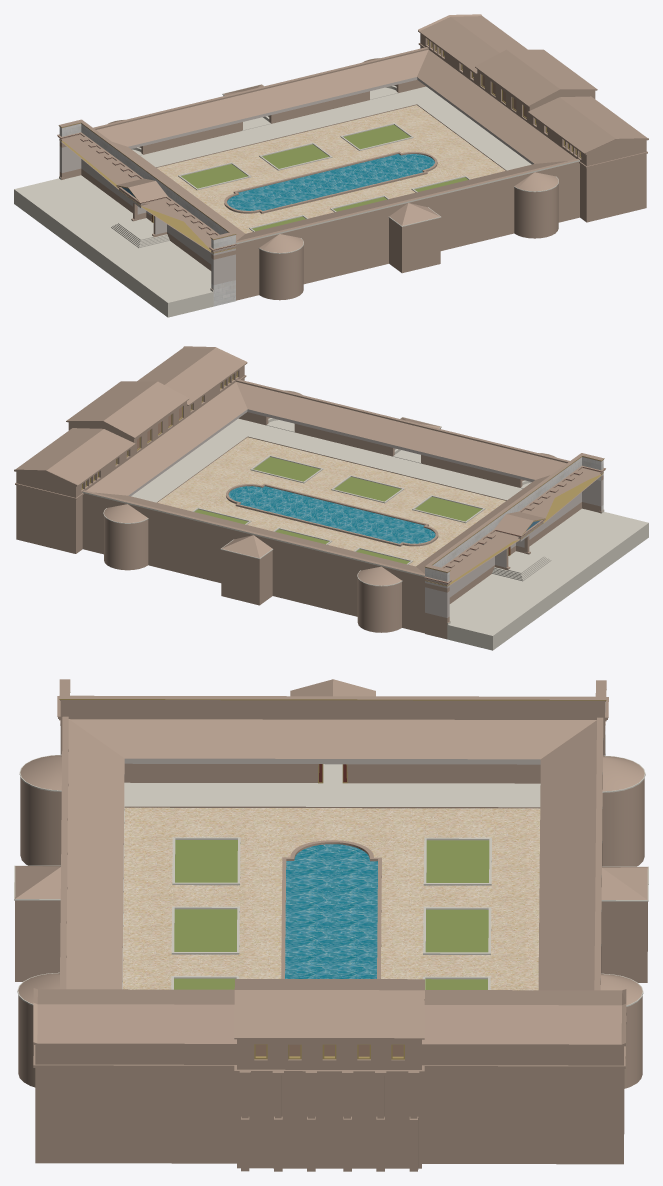
The model's file is librarynokolones.fbx.
The picture shows the model from 3 angles, top to bottom: view 1: azimuth 30°, elevation 25°; view 2: azimuth 150°, elevation 25°; view 3: azimuth 270°, elevation 25°; orthographic projection. The views are drawn at different scales.
Parts seen in each view (by area): view 1: Model; view 2: Model; view 3: Model.
Boxes of the visible parts, <box> form: Model: <box>14,14,648,317</box>; Model: <box>14,346,648,650</box>; Model: <box>14,679,648,1171</box>.
Bounding box in the file's own units: 136952 × 22950 × 89173.
